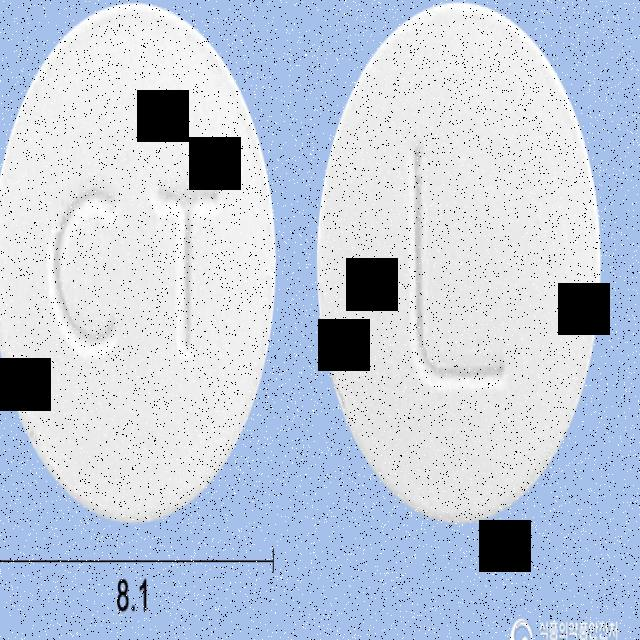Leflocin: (314, 0, 602, 517), (0, 0, 277, 524)
